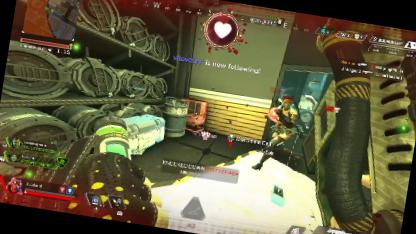Target: (266, 91, 300, 148)
